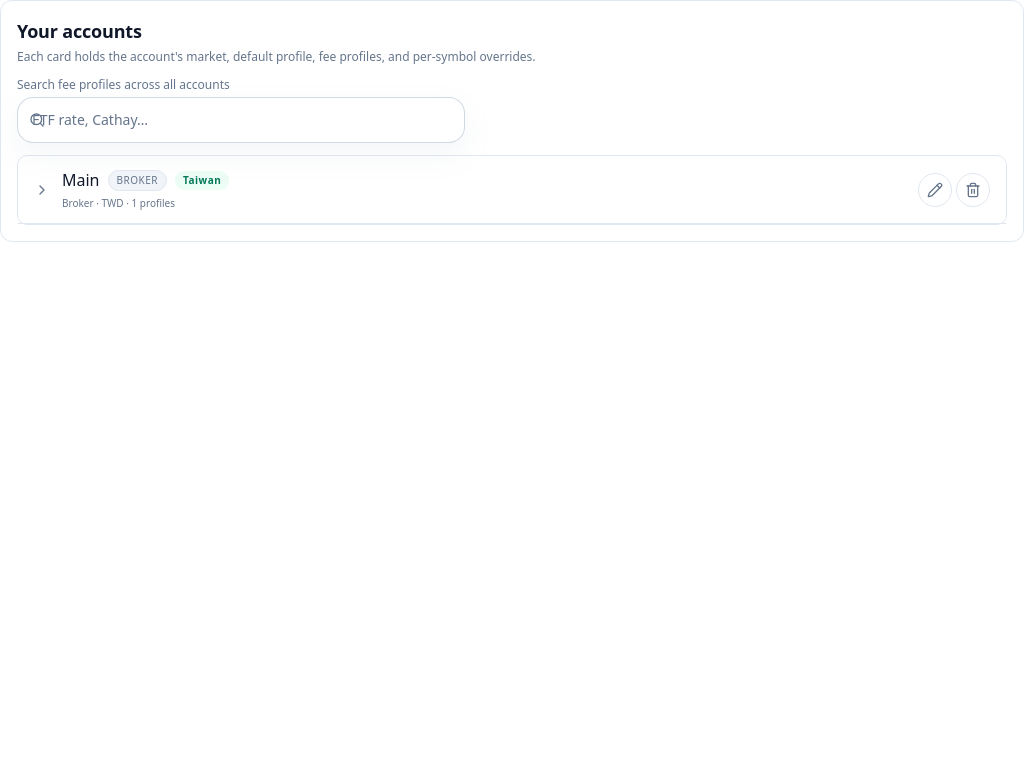
Test: AccountsListSection — ui-enhancement deletion affordances (Item 1) › Cancel closes the modal without invoking the soft-delete service
Click the button named "Delete account" at (973, 190), box [956,172,990,206]
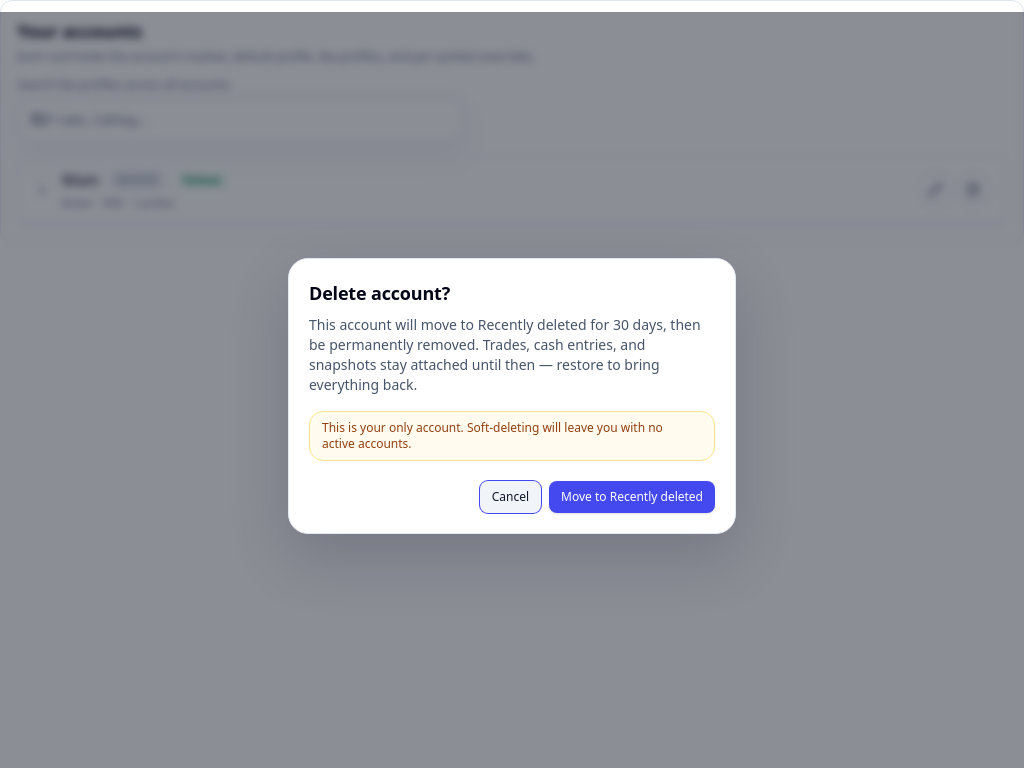
Click the button with test id "account-soft-delete-cancel-btn" at (510, 497), box [480,481,541,513]
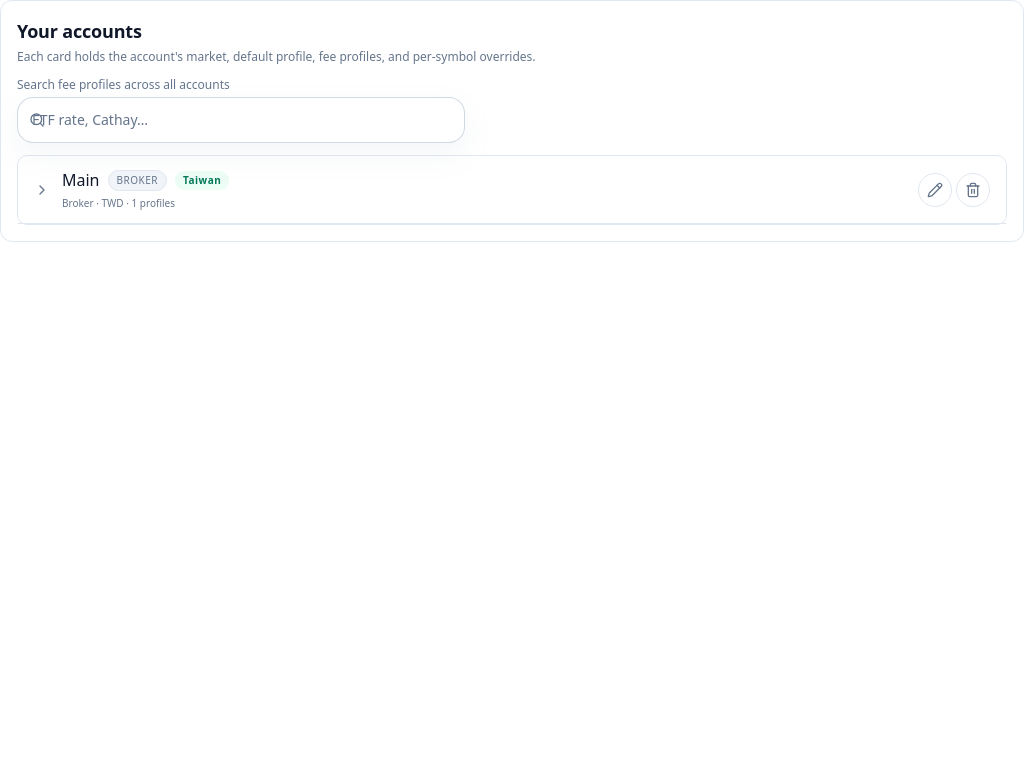
Expected: the dialog with test id "account-soft-delete-modal" is gone
